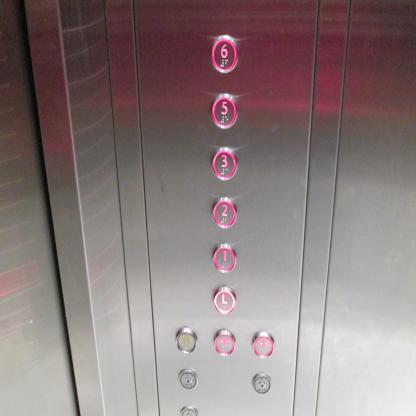1: (213, 243, 237, 273)
2: (211, 198, 237, 228)
3: (212, 147, 237, 182)
5: (210, 92, 240, 130)
6: (210, 35, 239, 74)
L: (214, 287, 236, 314)
alarm: (174, 327, 197, 354)
close: (214, 328, 235, 358)
keyhole: (177, 369, 199, 390), (252, 372, 272, 393)
open: (252, 332, 275, 360)
